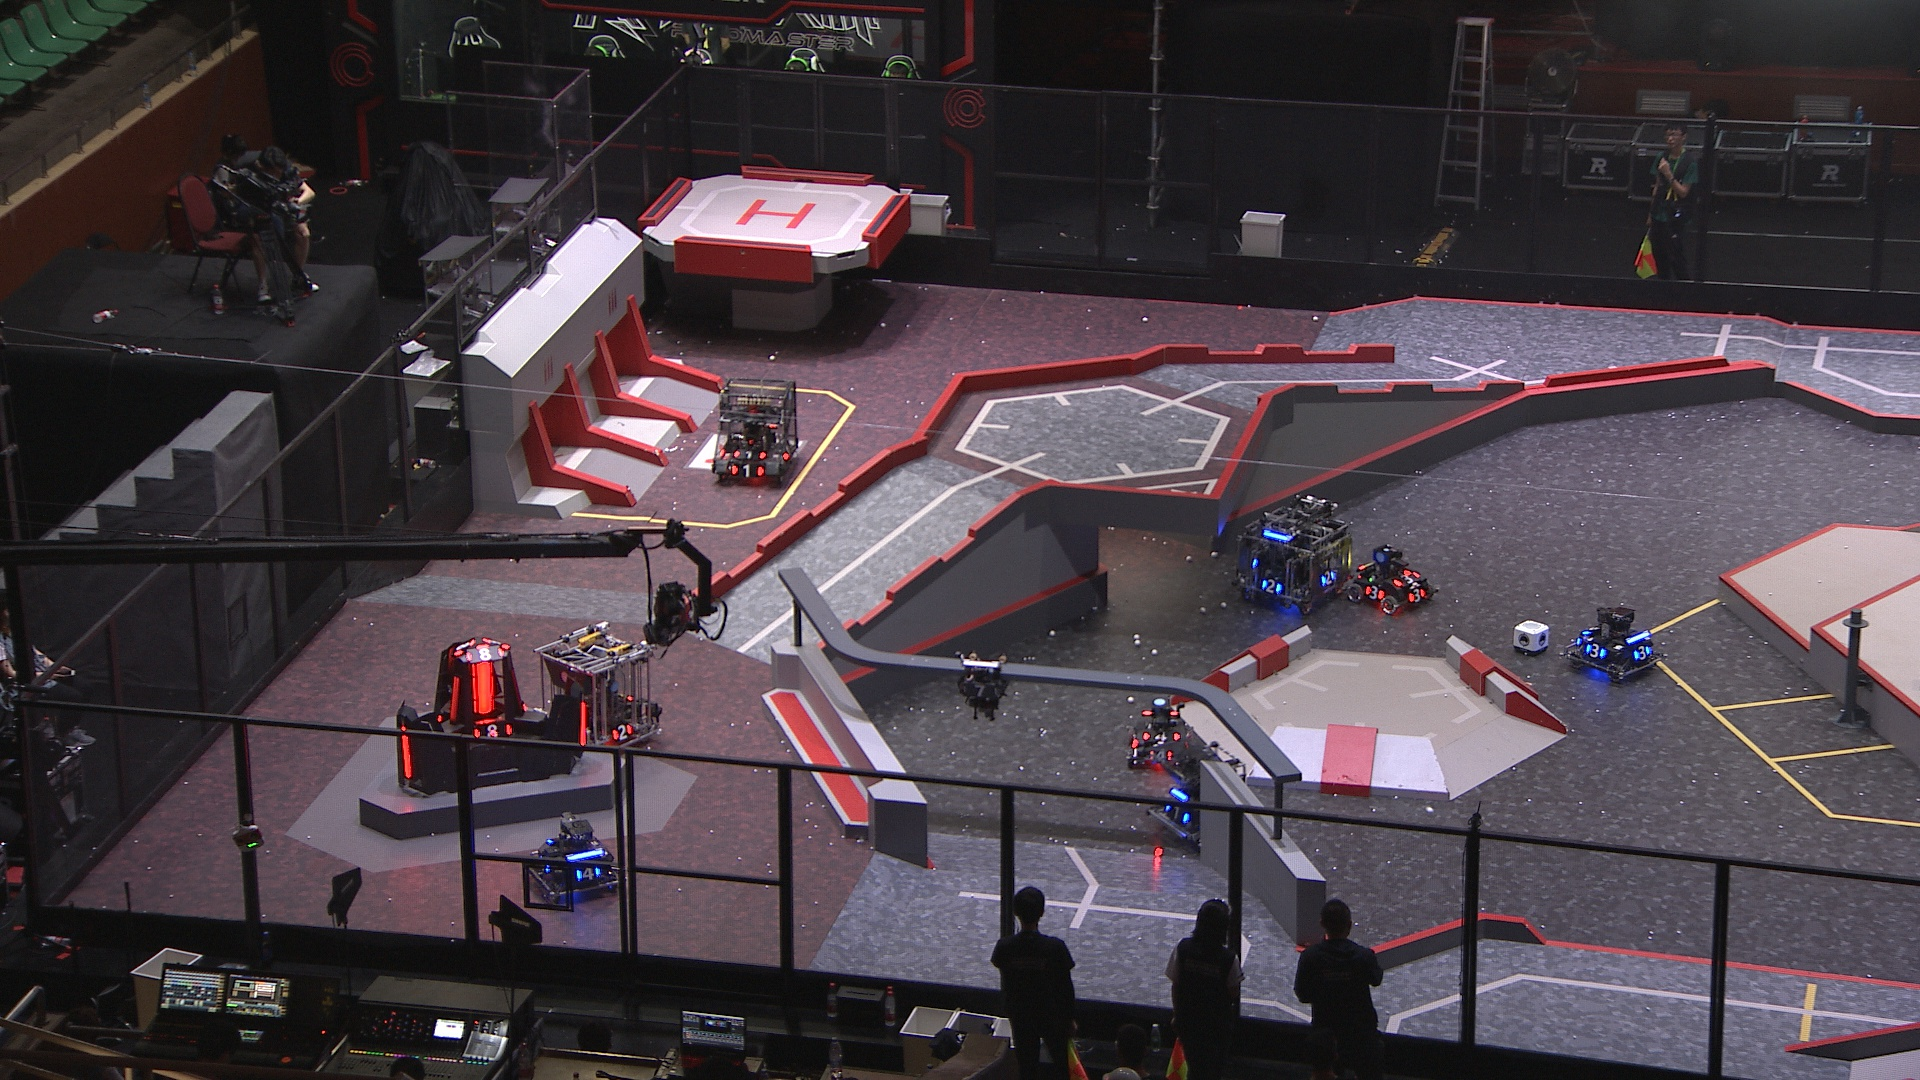armor: (468, 659, 495, 713), (472, 723, 516, 741), (400, 727, 413, 781), (446, 675, 462, 719), (1162, 806, 1193, 825), (728, 462, 764, 479), (578, 702, 591, 746), (462, 647, 505, 661), (961, 683, 997, 699), (1582, 642, 1609, 662), (732, 447, 767, 462), (1139, 731, 1182, 742), (1149, 749, 1178, 765), (612, 723, 633, 744), (1391, 571, 1420, 585), (1365, 583, 1386, 603), (574, 868, 600, 884), (1629, 645, 1654, 661), (451, 637, 472, 655), (1259, 579, 1283, 595), (1406, 585, 1427, 603), (1316, 570, 1337, 585), (1581, 624, 1600, 636), (782, 446, 793, 462)
base: (392, 632, 595, 799)
car: (534, 624, 665, 752), (1234, 489, 1354, 615), (1150, 741, 1262, 849), (711, 376, 802, 485), (524, 812, 626, 901), (1561, 605, 1669, 680), (1344, 545, 1437, 617), (1124, 698, 1205, 773)
watcher: (957, 651, 1011, 723)
